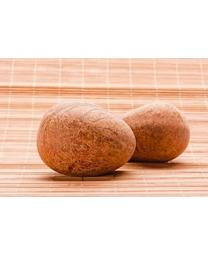coconut: (35, 95, 137, 187), (109, 103, 191, 169)
